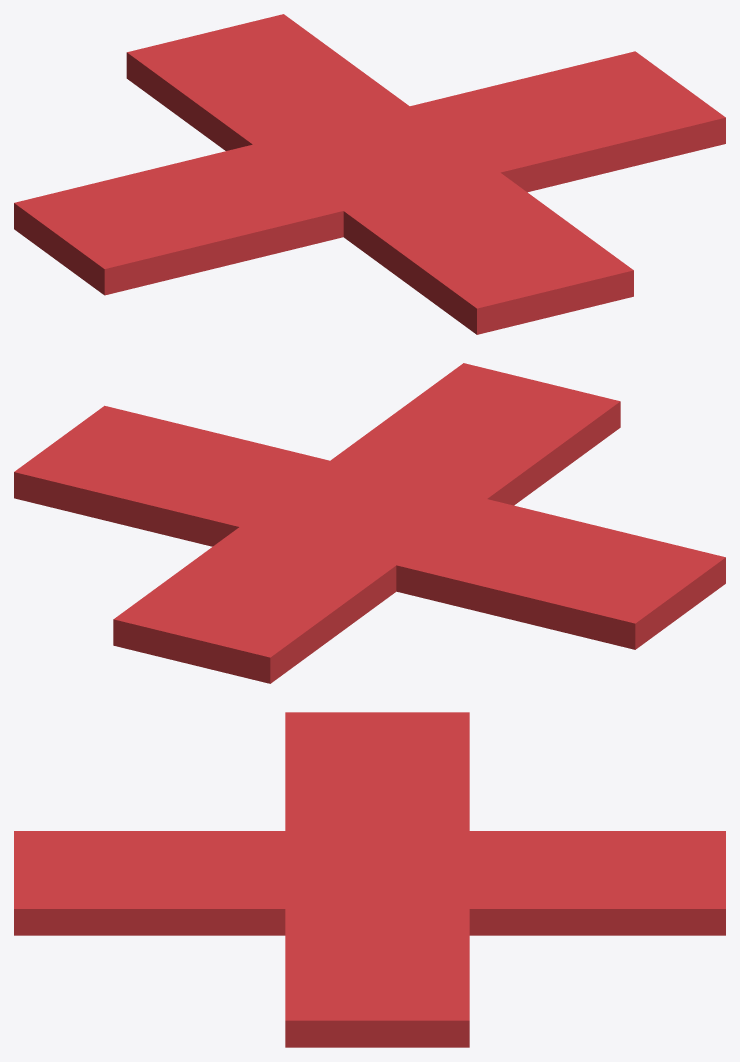
Rendered from Kreuz.fbx.
The picture shows the model from 3 angles, top to bottom: view 1: azimuth 30°, elevation 25°; view 2: azimuth 150°, elevation 25°; view 3: azimuth 270°, elevation 25°; orthographic projection.
Visible parts, largest first — view 1: Cube; view 2: Cube; view 3: Cube.
Boxes of the visible parts, <box> form: Cube: <box>14,14,725,334</box>; Cube: <box>14,363,725,683</box>; Cube: <box>14,712,725,1047</box>.
Bounding box in the file's own units: 264 × 10.68 × 258.
